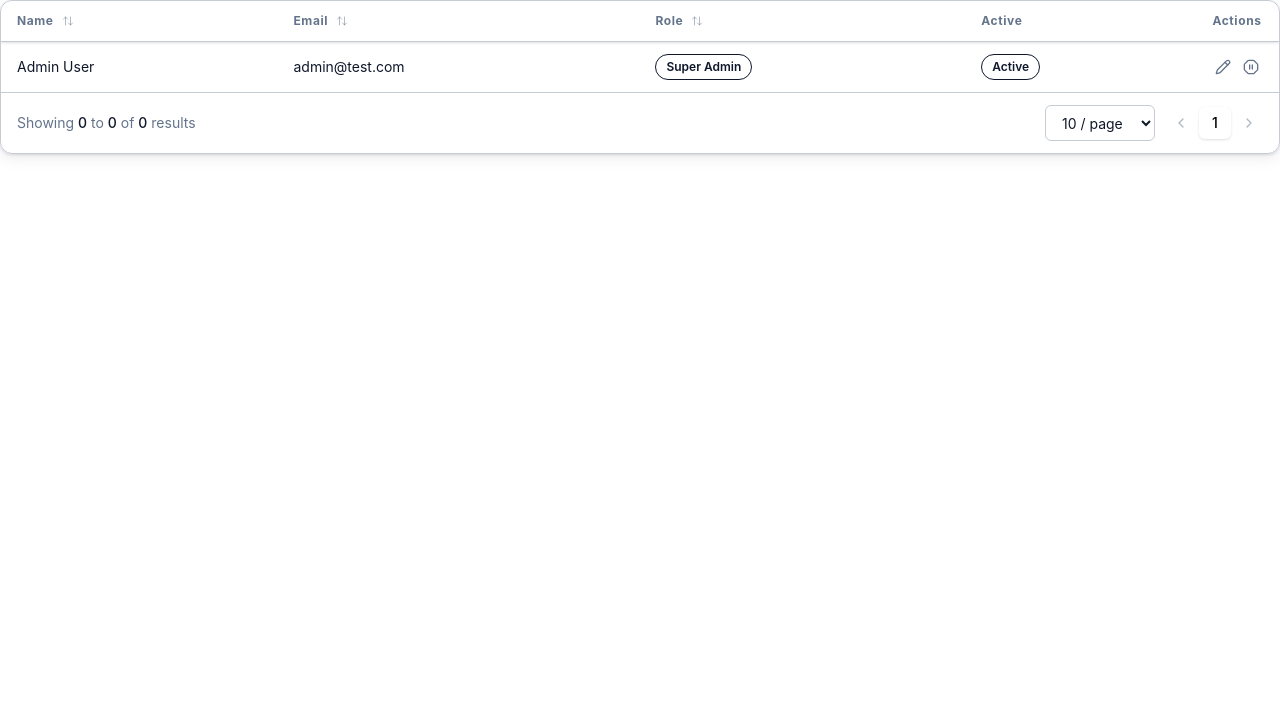
Test: StaffTable › row actions — canMutate true › clicking Deactivate opens a confirmation dialog naming the staff member
Click the button named "Deactivate Admin User": point(1251, 67) [1239, 55, 1263, 79]
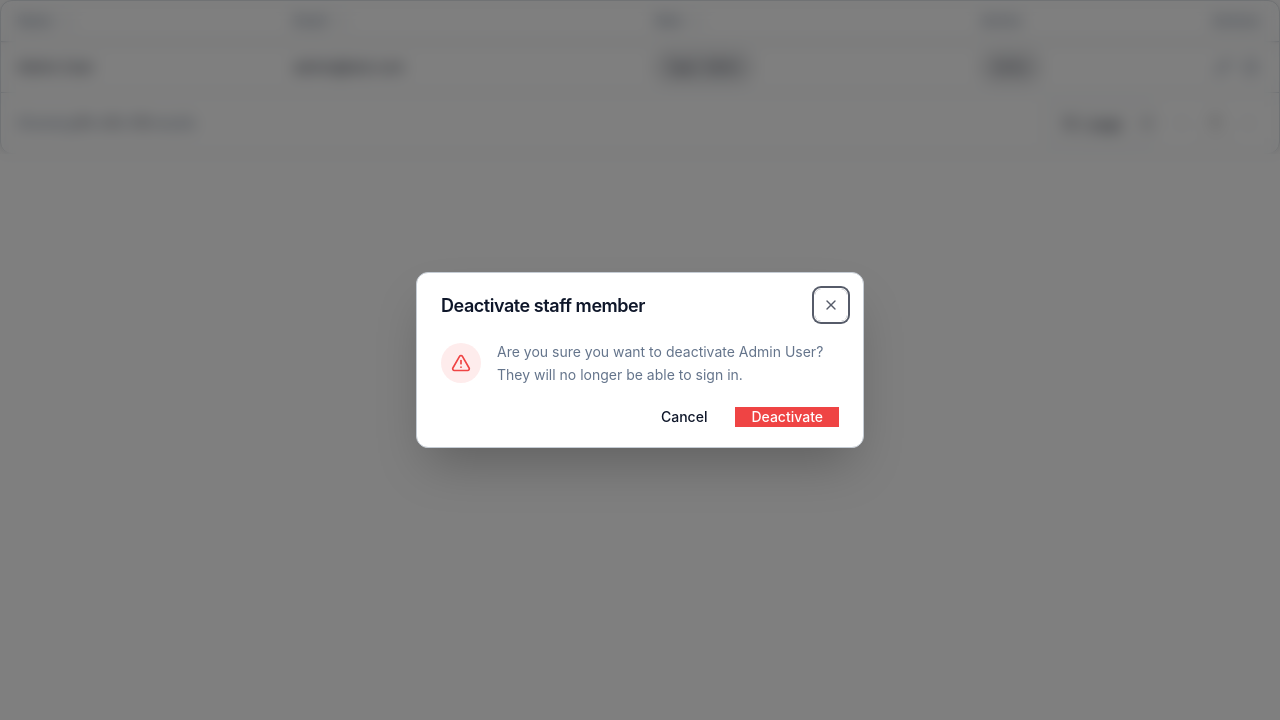
expect the text "Deactivate staff member" is shown: met, box [441, 295, 645, 316]
expect the text "Are you sure you want to deactivate Admin User" is shown: met, box [497, 343, 823, 383]
